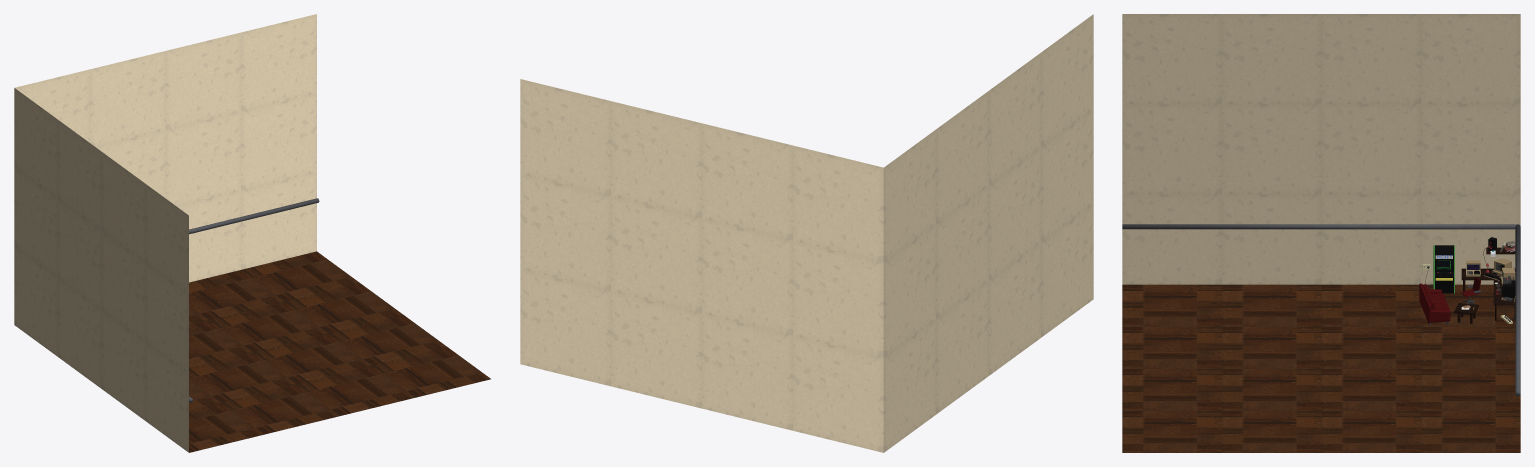
File: haker_roomDindinghitam.glb
The picture shows the model from 3 angles, left to right: view 1: azimuth 30°, elevation 25°; view 2: azimuth 150°, elevation 25°; view 3: azimuth 270°, elevation 25°; orthographic projection. The views are drawn at different scales.
Visible parts, largest first — view 1: expanded_back_wall, expanded_left_wall, expanded_floor_parquet, expanded_pipe_constant_diameter; view 2: expanded_back_wall, expanded_left_wall; view 3: expanded_left_wall, expanded_floor_parquet, expanded_pipe_constant_diameter, gaming mashine, sofa, table.001.
Boxes of the visible parts, x1=… form: expanded_back_wall: x1=15, y1=14, x2=316, y2=282; expanded_left_wall: x1=14, y1=88, x2=188, y2=452; expanded_floor_parquet: x1=189, y1=251, x2=490, y2=452; expanded_pipe_constant_diameter: x1=189, y1=198, x2=319, y2=402; expanded_back_wall: x1=520, y1=79, x2=883, y2=452; expanded_left_wall: x1=883, y1=14, x2=1093, y2=452; expanded_left_wall: x1=1122, y1=14, x2=1520, y2=284; expanded_floor_parquet: x1=1122, y1=284, x2=1520, y2=452; expanded_pipe_constant_diameter: x1=1122, y1=224, x2=1520, y2=396; gaming mashine: x1=1433, y1=245, x2=1454, y2=293; sofa: x1=1419, y1=283, x2=1450, y2=322; table.001: x1=1461, y1=268, x2=1515, y2=320.
Bounding box in the file's own units: 16 × 12 × 16.
99 materials, 43 textured.
